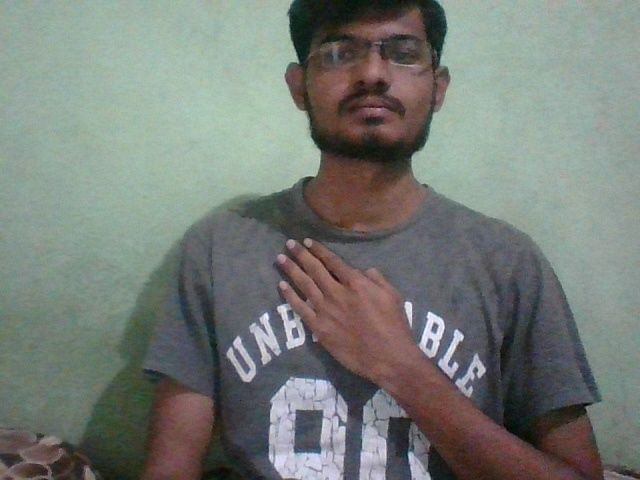no: (256, 229, 439, 363)
